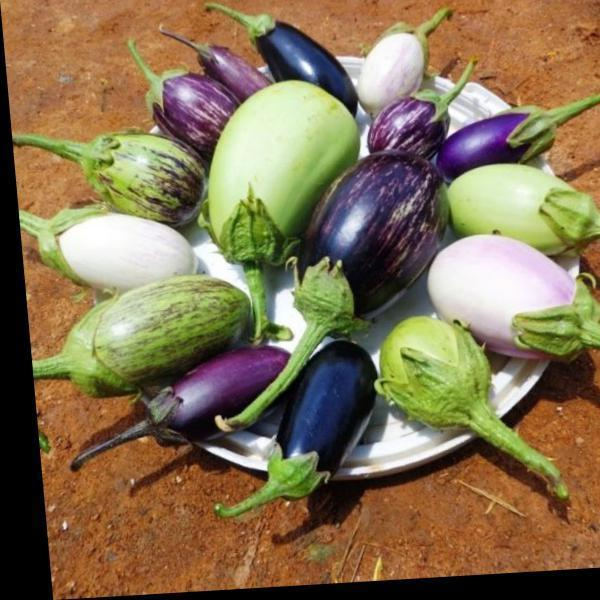eggplant: (90, 112, 540, 460), (264, 142, 466, 364), (187, 87, 373, 306), (370, 318, 524, 516), (236, 349, 390, 542), (20, 281, 241, 400), (420, 243, 599, 342), (443, 155, 599, 252), (15, 207, 187, 291)
